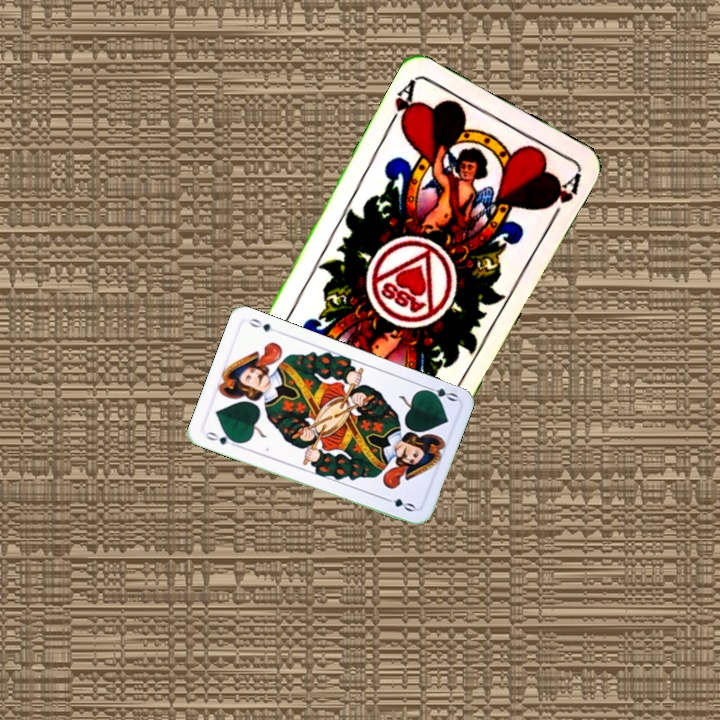GO: (419, 381, 460, 404), (202, 428, 241, 450)
HA: (383, 76, 420, 132)
